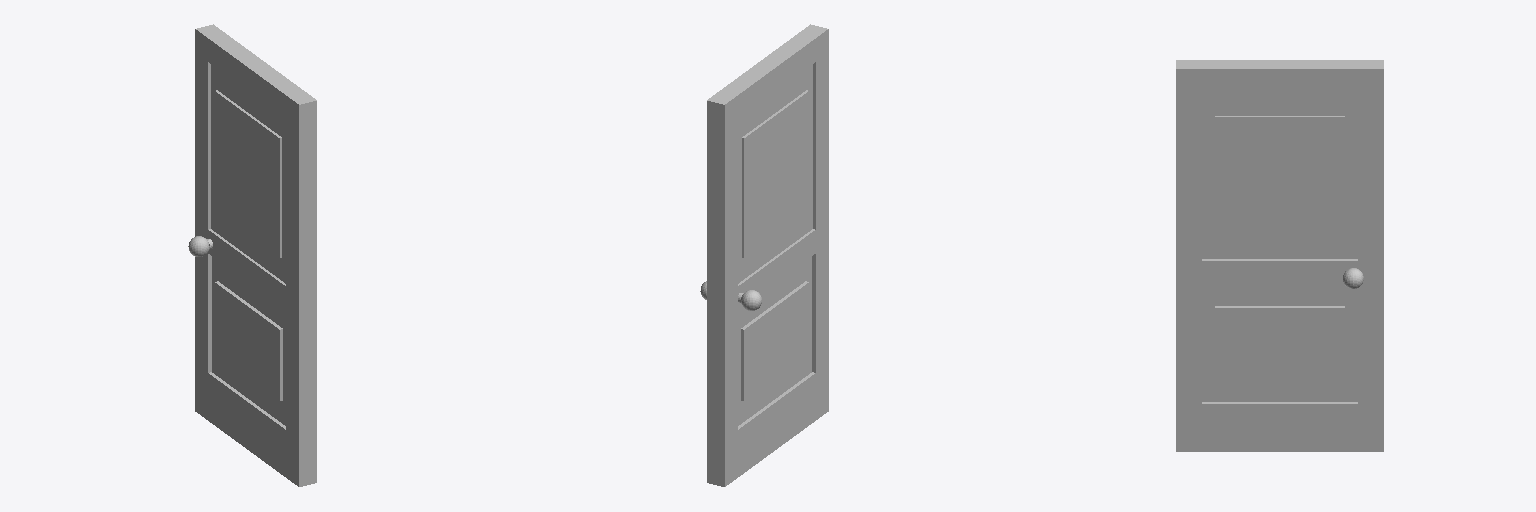
The model's file is door.obj.
The picture shows the model from 3 angles: view 1: azimuth 30°, elevation 25°; view 2: azimuth 150°, elevation 25°; view 3: azimuth 270°, elevation 25°; orthographic projection.
Visible parts, largest first — view 1: pasted__group3_pasted__pSphere1 group polySurface7; view 2: pasted__group3_pasted__pSphere1 group polySurface7; view 3: pasted__group3_pasted__pSphere1 group polySurface7.
Part boxes in pixels (x1,y1,x2,y2): pasted__group3_pasted__pSphere1 group polySurface7: (195, 24, 316, 486); pasted__group3_pasted__pSphere1 group polySurface7: (707, 24, 828, 486); pasted__group3_pasted__pSphere1 group polySurface7: (1176, 60, 1383, 451).
Bounding box in the file's own units: 0.3277 × 2.03 × 1.